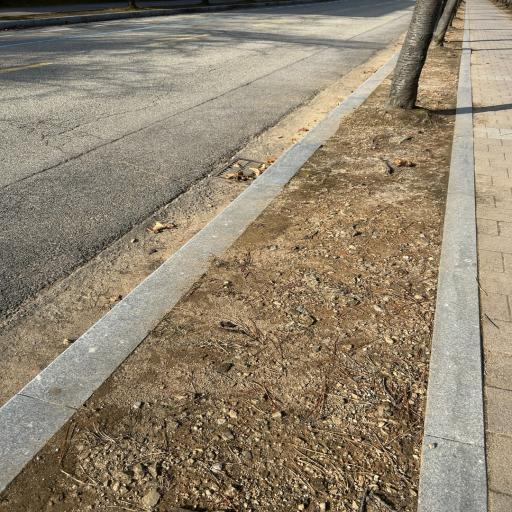debris: (225, 162, 265, 182), (233, 161, 241, 167)
drain: (214, 157, 272, 184)
